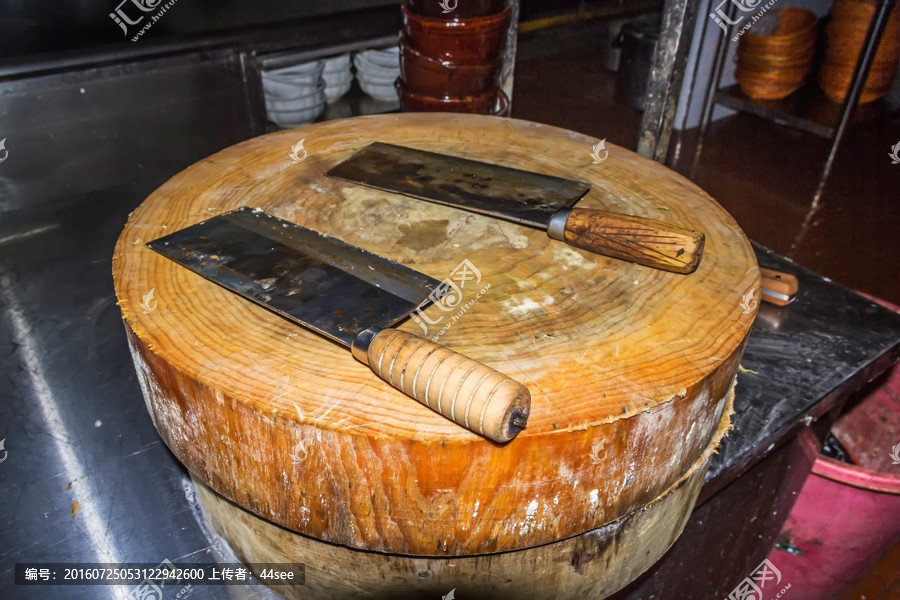knief: (128, 197, 546, 436)
